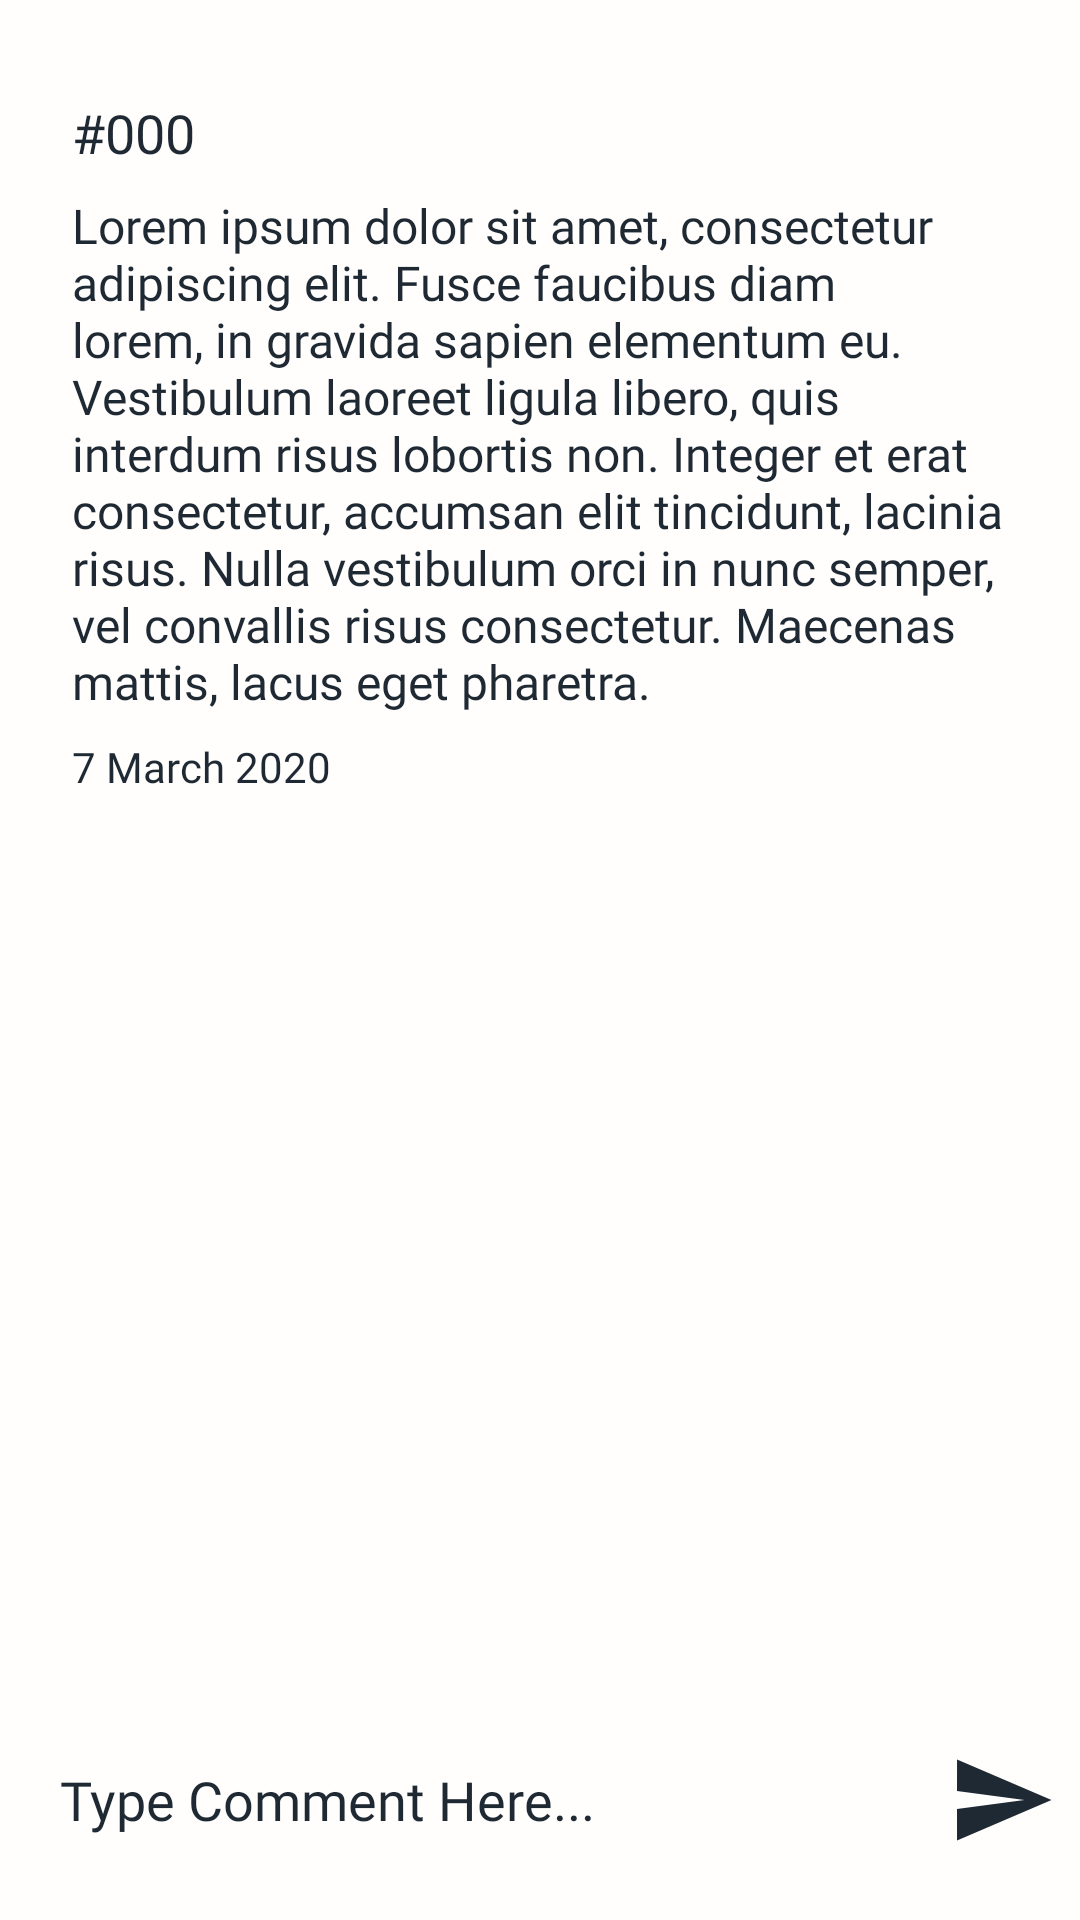

Where icons sit on this 1080x1920 app screen, as (x1, y1, x2, y2):
send: (957, 1759, 1051, 1841)
